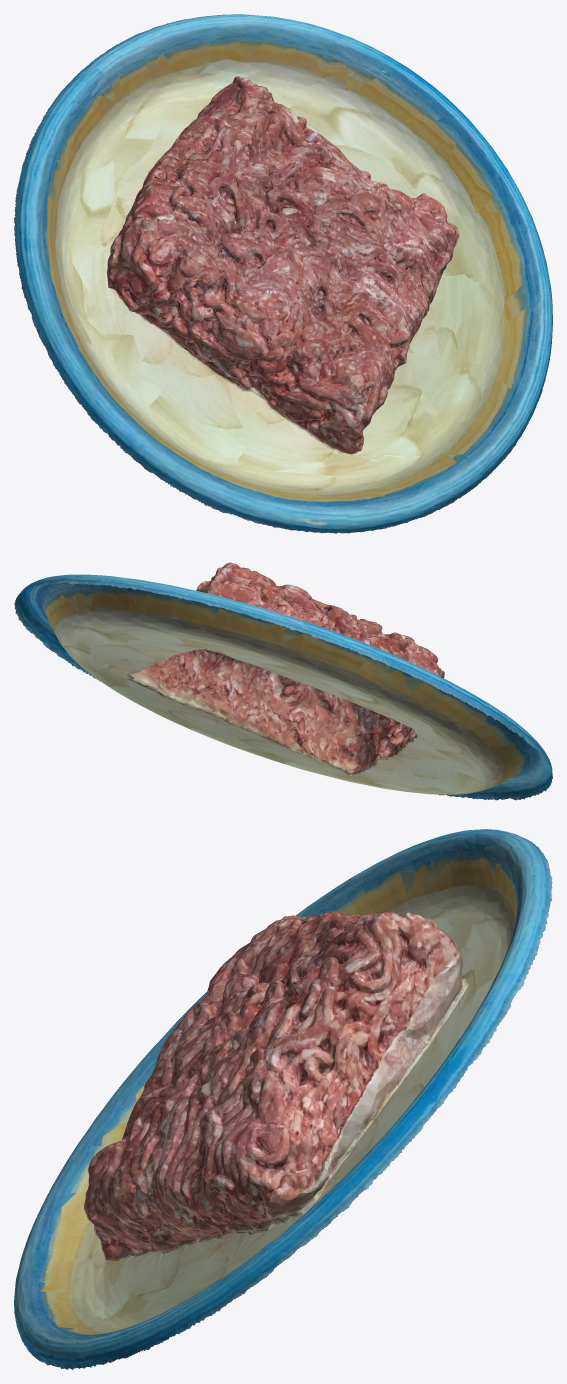
Rendered from Hackfleisch.fbx.
The picture shows the model from 3 angles, top to bottom: view 1: azimuth 30°, elevation 25°; view 2: azimuth 150°, elevation 25°; view 3: azimuth 270°, elevation 25°; orthographic projection. The views are drawn at different scales.
Visible parts, largest first — view 1: Hackfleisch_tex_high; view 2: Hackfleisch_tex_high; view 3: Hackfleisch_tex_high.
Part boxes in pixels (<box>): Hackfleisch_tex_high: <box>14,14,552,533</box>; Hackfleisch_tex_high: <box>14,562,552,800</box>; Hackfleisch_tex_high: <box>14,829,552,1369</box>.
Bounding box in the file's own units: 19.82 × 13.41 × 14.93.
